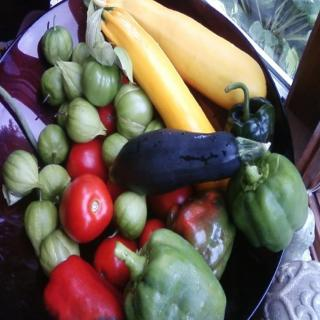Bell pepper: (112, 228, 228, 319), (225, 151, 308, 250), (167, 192, 237, 278), (42, 256, 124, 320), (226, 82, 276, 150)
Tomato: (58, 172, 114, 242), (93, 235, 136, 293), (67, 144, 108, 178), (141, 217, 164, 246), (96, 107, 118, 135)
